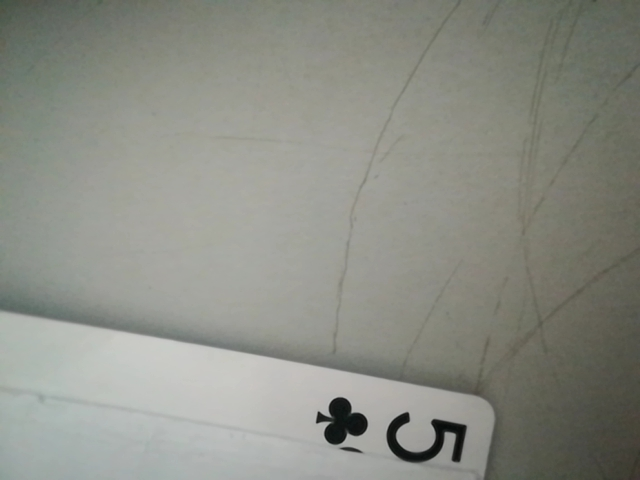mh 5: (311, 388, 478, 474)
